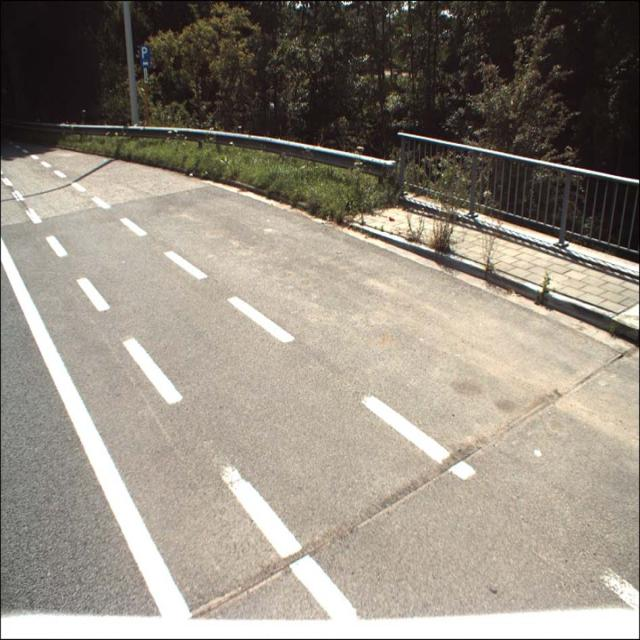park: (140, 45, 149, 62)
